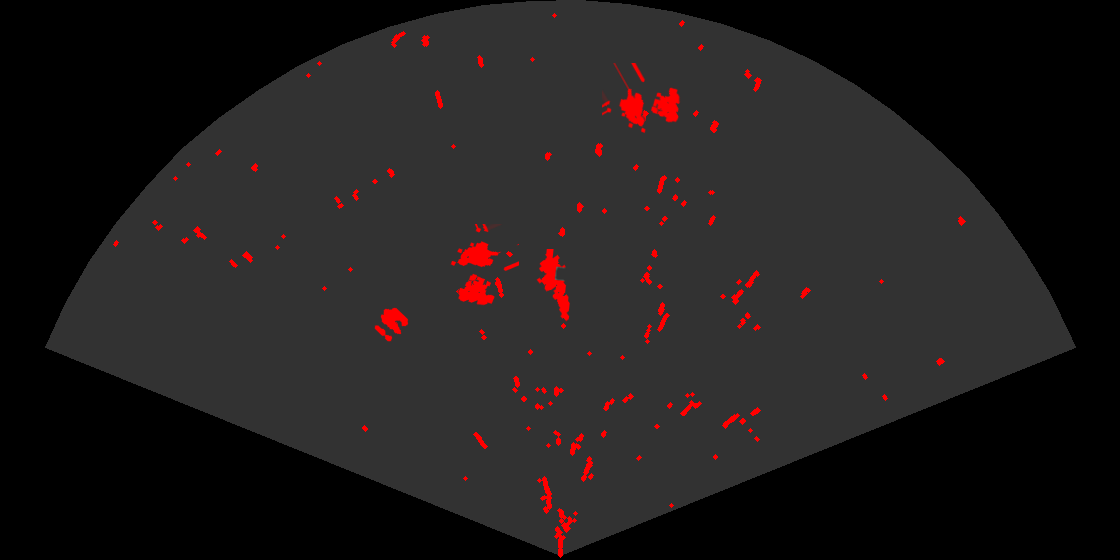ball: (373, 306, 410, 343)
cage: (449, 224, 519, 307), (602, 63, 682, 135)
frogman: (535, 249, 571, 322)
